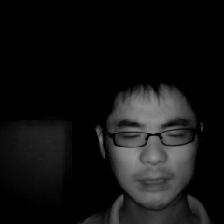normal: (84, 71, 216, 210)
